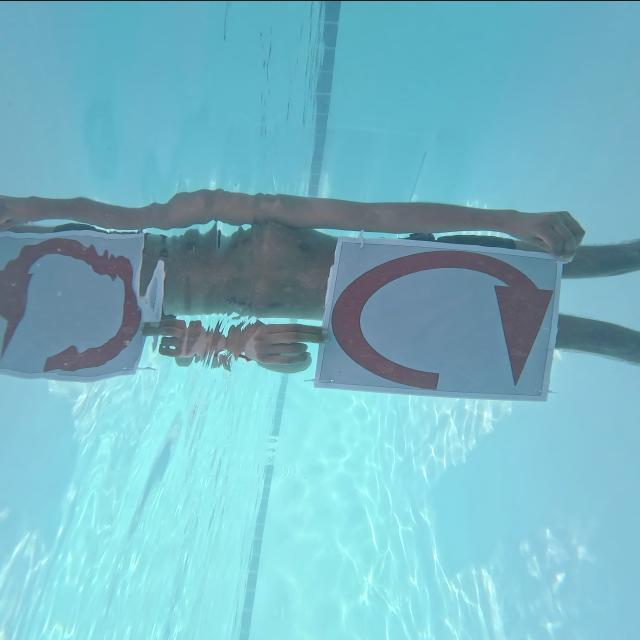red_side: (304, 244, 568, 408)
